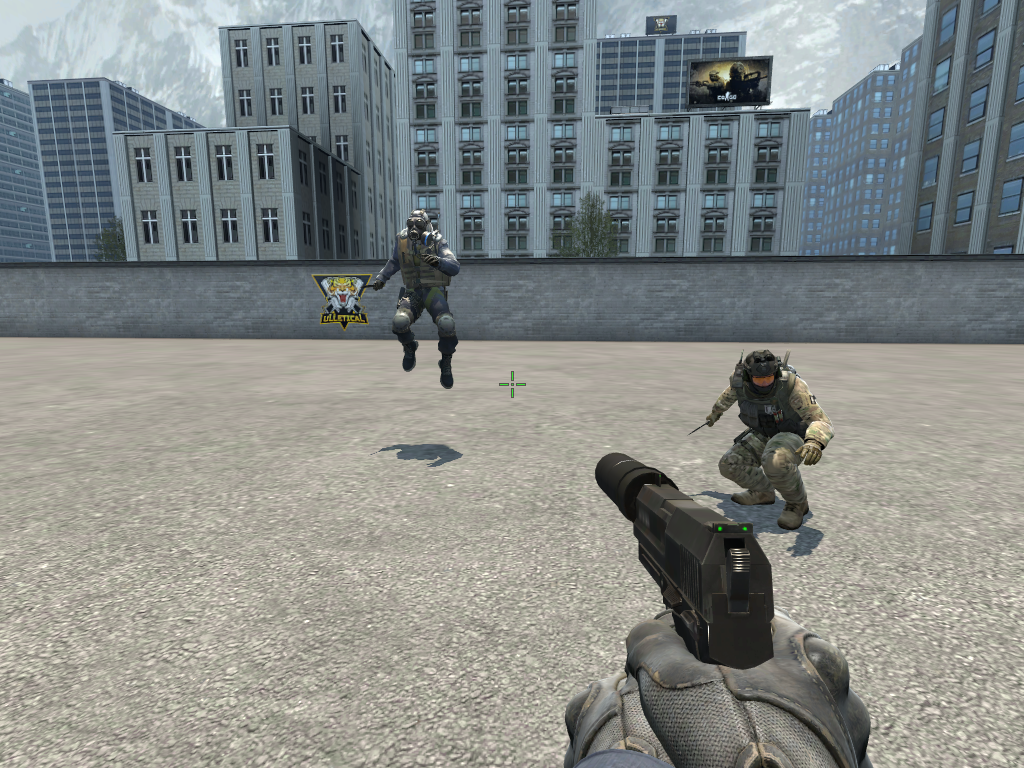ct head: (741, 344, 782, 397), (402, 206, 436, 247)
